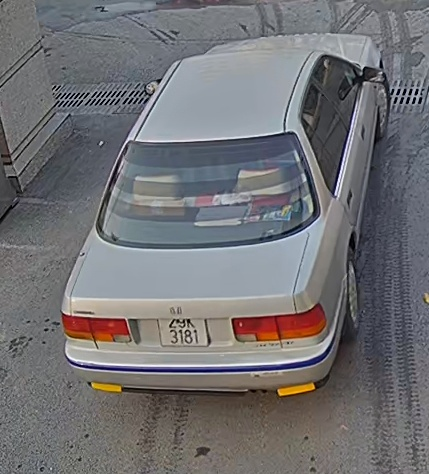vehicle plate: (155, 313, 212, 346)
